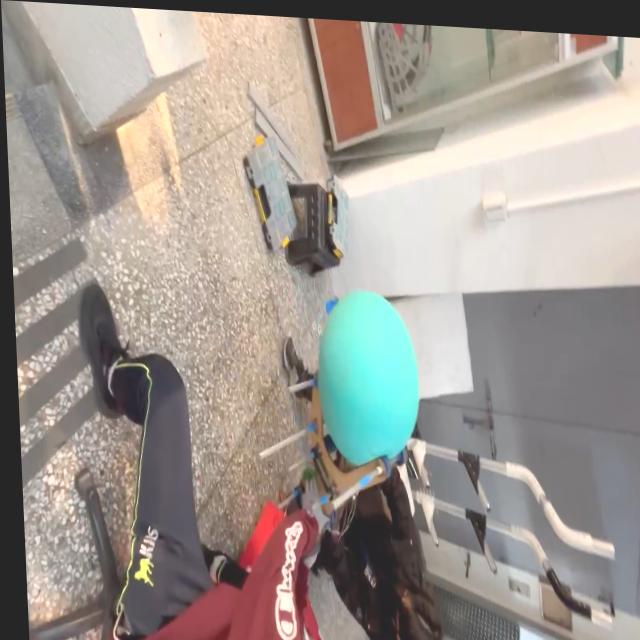ALGAE: (311, 285, 423, 471)
